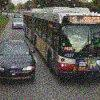buses: (22, 8, 100, 82)
